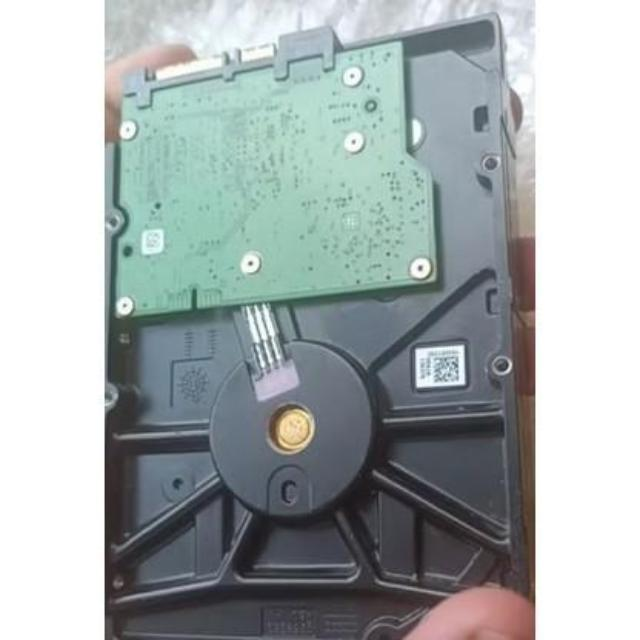DISK: (92, 12, 528, 640)
